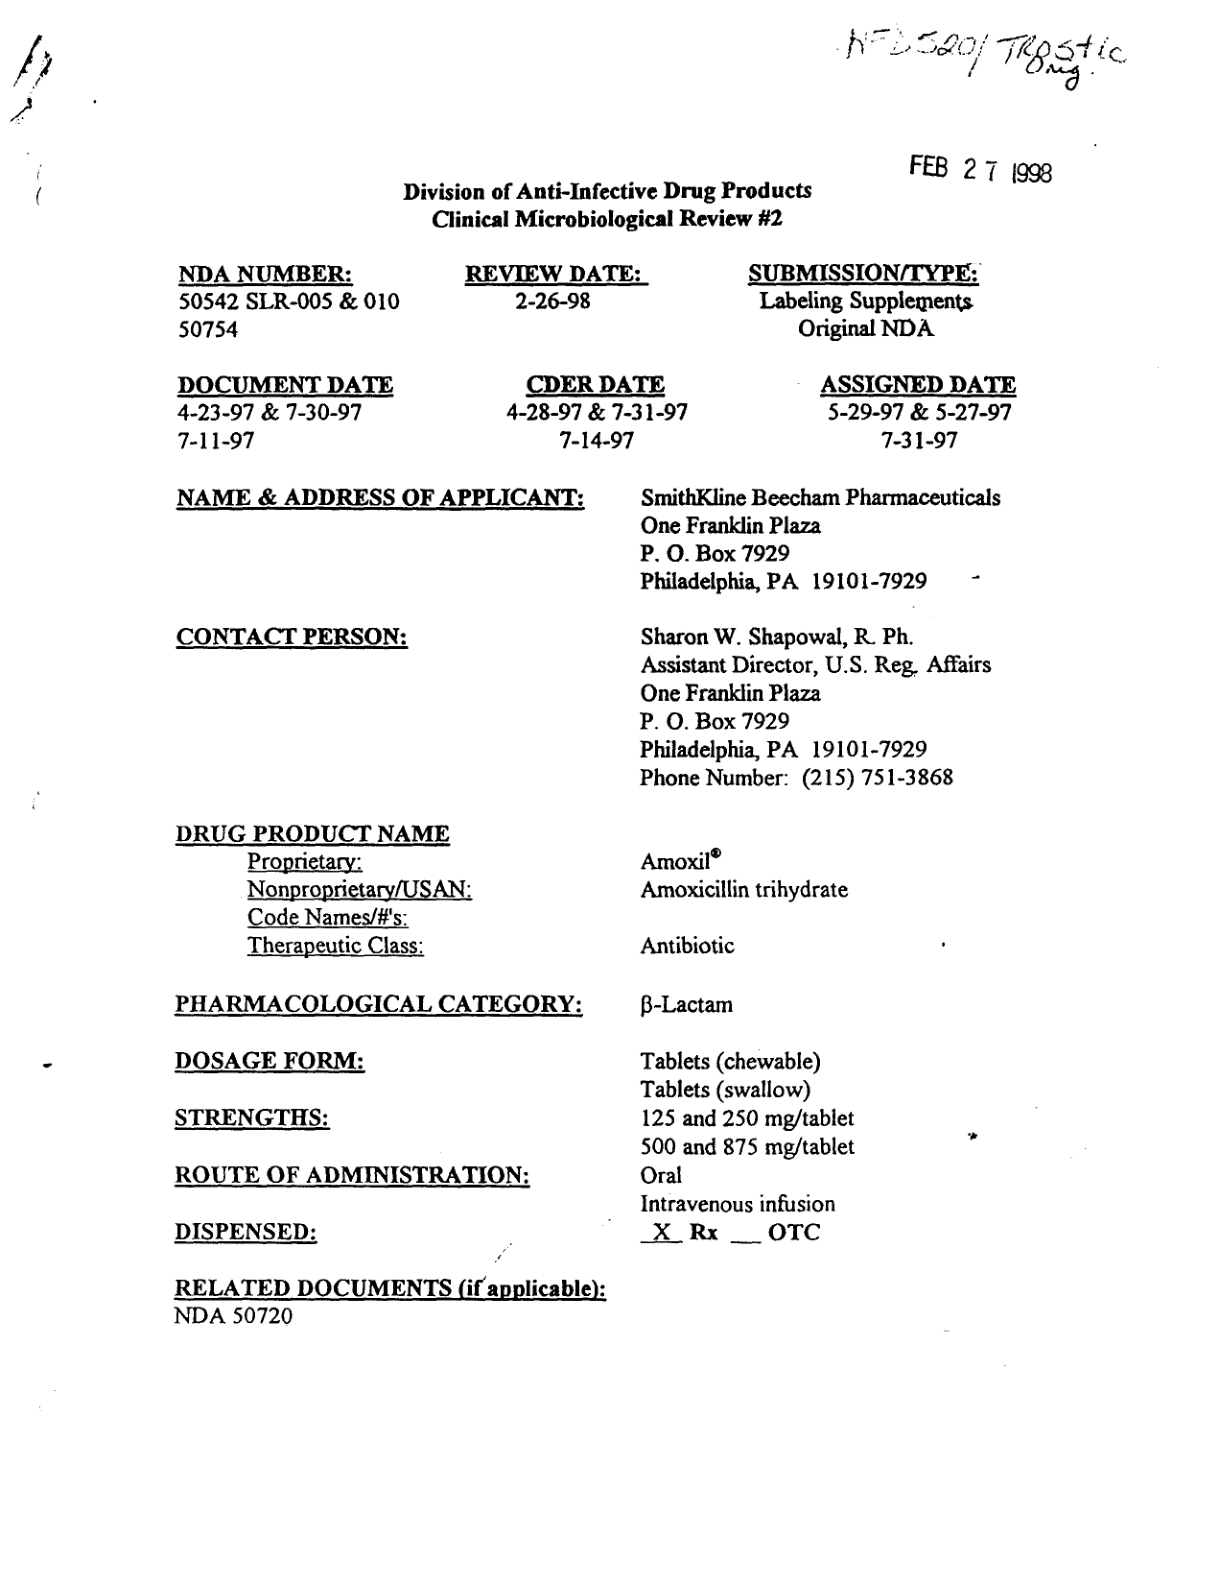nolines: (173, 483, 1004, 1323), (173, 259, 978, 344), (176, 374, 1015, 452)
